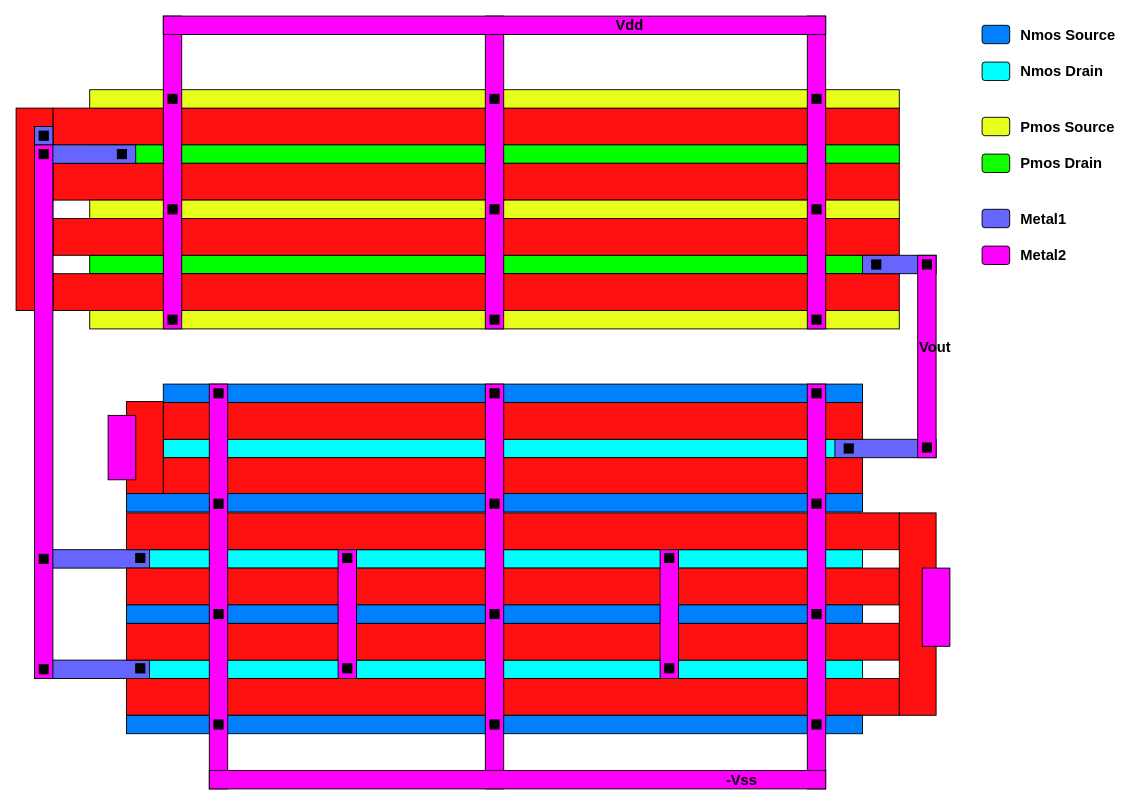
This 1145x805 diagram has some shape labels left out. Each missing label, with the centre of its shape:
Vbias: pixel 121 447
Vin: pixel 935 606
